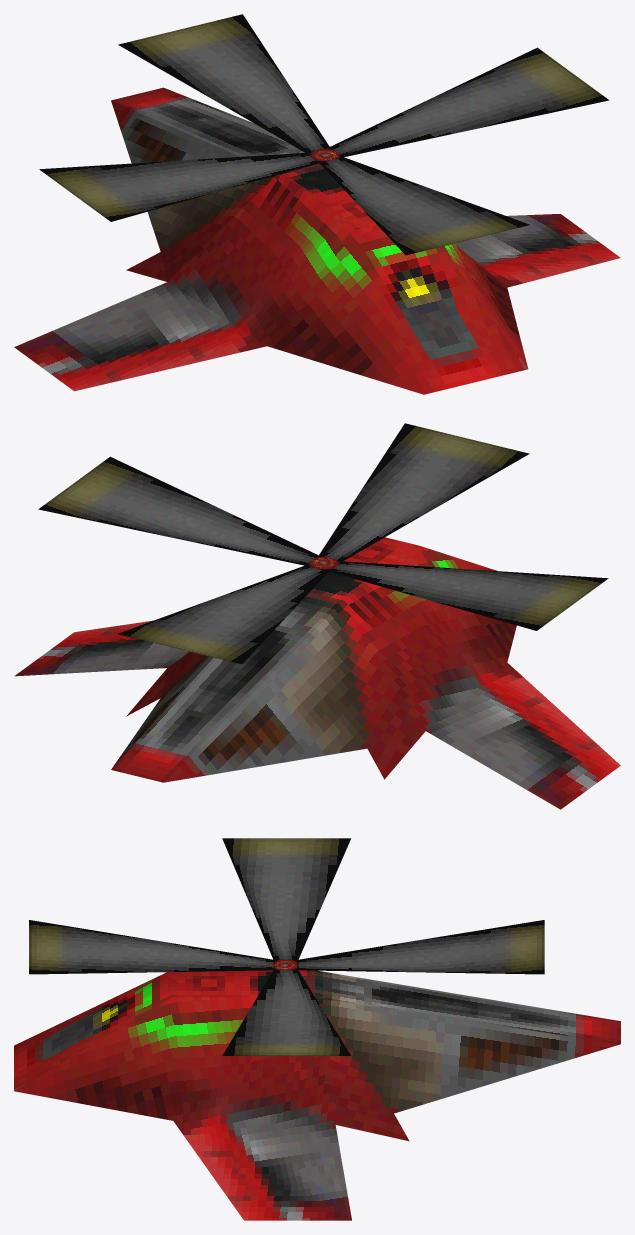
The picture shows the model from 3 angles, top to bottom: view 1: azimuth 30°, elevation 25°; view 2: azimuth 150°, elevation 25°; view 3: azimuth 270°, elevation 25°; orthographic projection. The views are drawn at different scales.
Parts seen in each view (by area): view 1: Hk_obj_022; view 2: Hk_obj_022; view 3: Hk_obj_022.
Boxes of the visible parts, x1,y1,x2,y2 form: Hk_obj_022: (14,14,620,394); Hk_obj_022: (14,423,620,809); Hk_obj_022: (14,838,620,1220).
Bounding box in the file's own units: 1.4 × 0.4219 × 1.5.
1 material, 1 textured.
